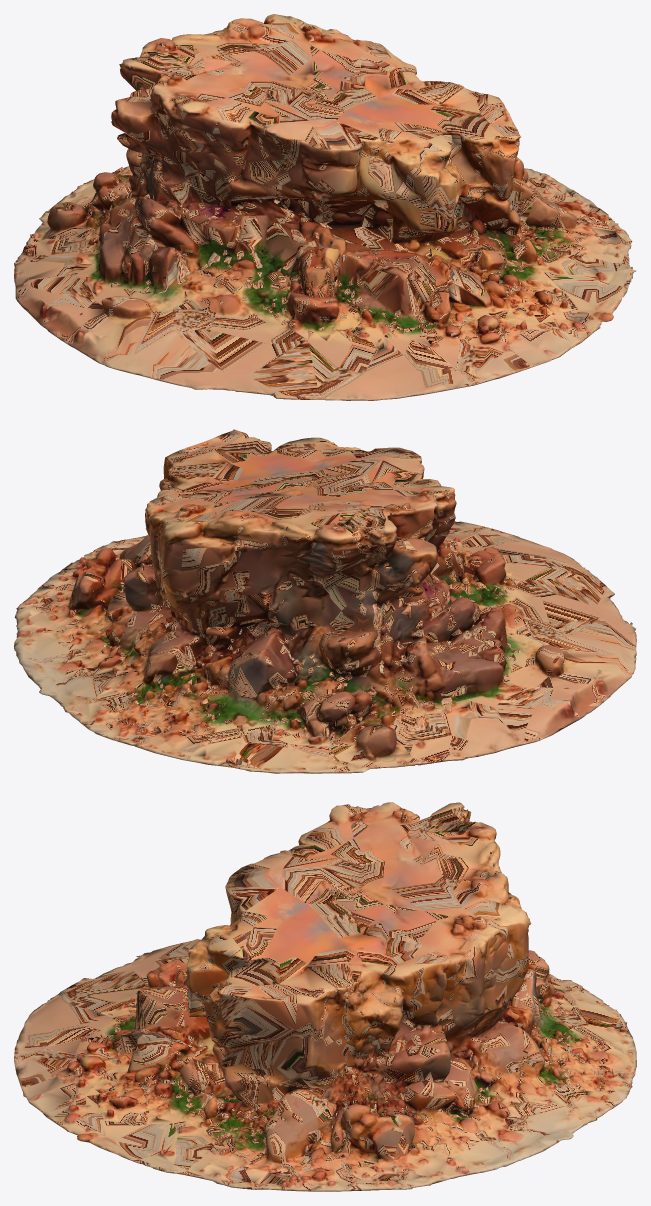
Rendered from Desert_Monolith.glb.
3 views of the same model, one above another, from view 1: azimuth 30°, elevation 25°; view 2: azimuth 150°, elevation 25°; view 3: azimuth 270°, elevation 25° (orthographic).
Visible parts, largest first — view 1: Desert_Monolith; view 2: Desert_Monolith; view 3: Desert_Monolith.
Boxes of the visible parts, x1,y1,x2,y2 form: Desert_Monolith: (14,14,636,400); Desert_Monolith: (14,429,636,773); Desert_Monolith: (14,802,636,1191).
Bounding box in the file's own units: 1.9 × 0.6511 × 1.9.
1 material, 1 textured.
